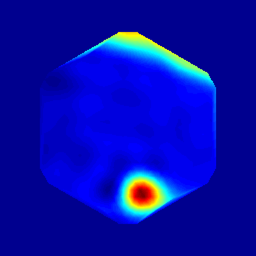ship: (107, 178, 133, 196)
wave: (124, 183, 171, 205)
